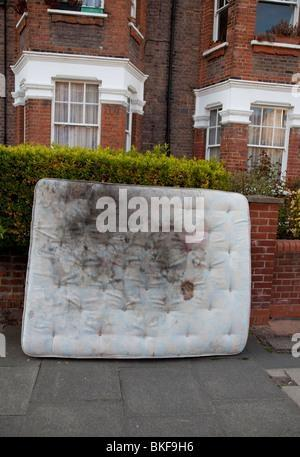Bed-Mattress: (18, 169, 257, 366)
